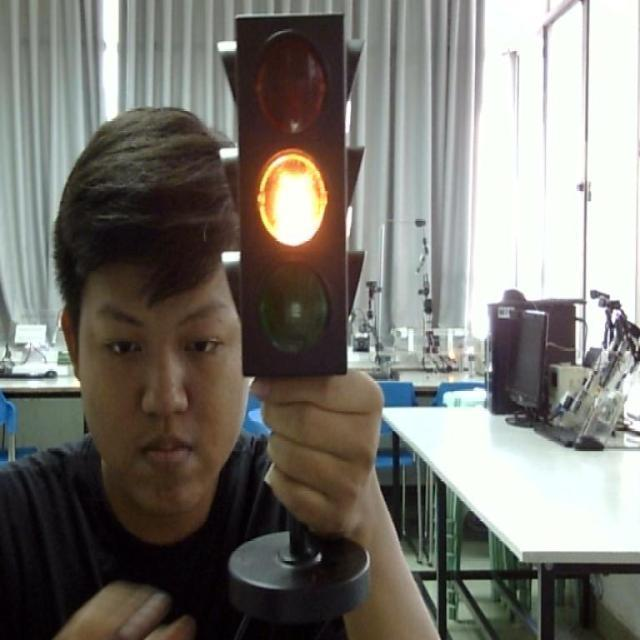yellow_light: (233, 12, 354, 374)
